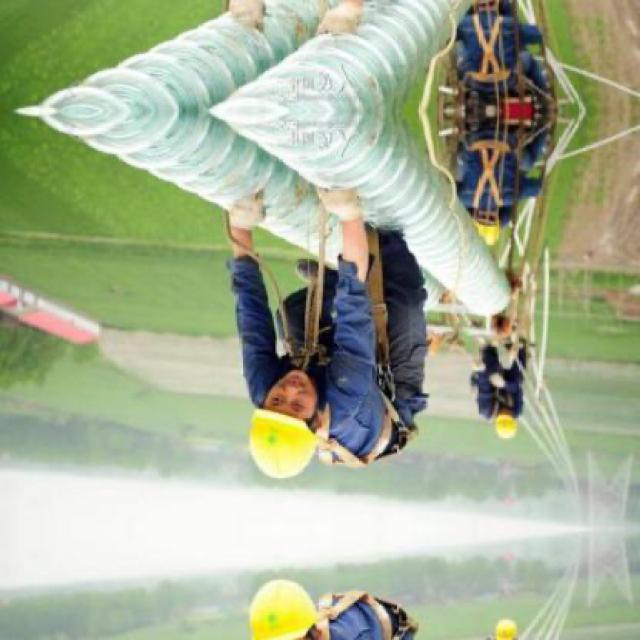con casco: (245, 350, 345, 476), (476, 393, 536, 452)
